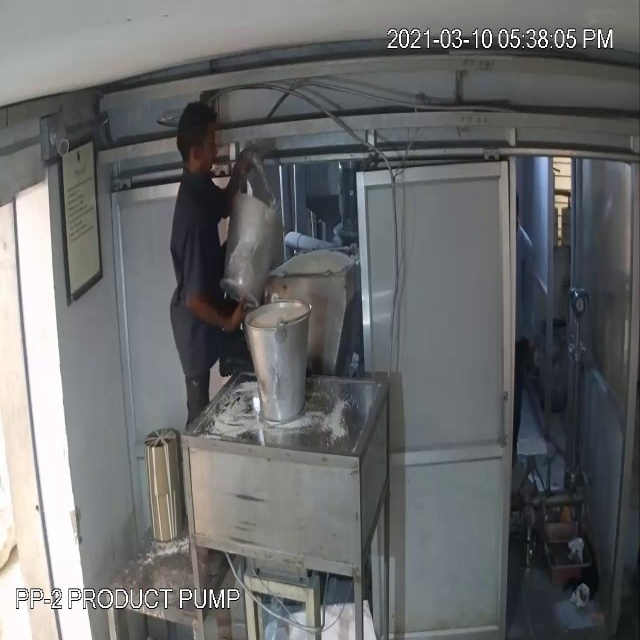Sin_guantes: (183, 273, 256, 346)
